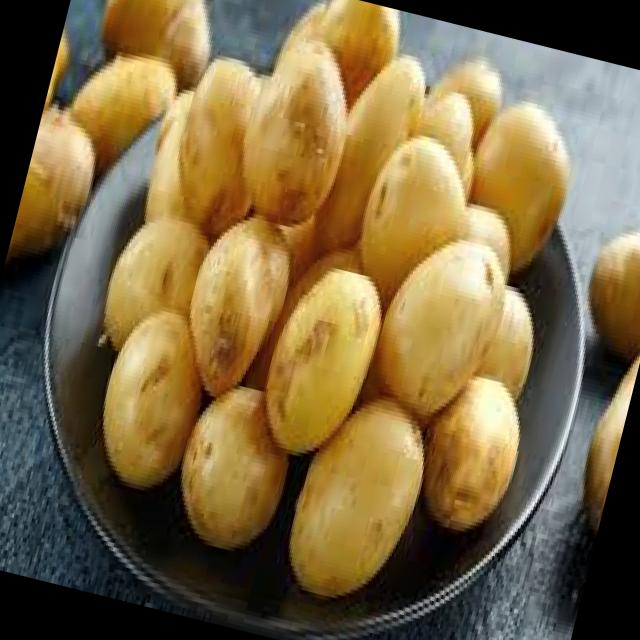Potato: (274, 376, 445, 640), (158, 351, 318, 582), (361, 219, 525, 438), (223, 7, 376, 238), (252, 246, 404, 472), (76, 302, 224, 522), (449, 79, 603, 288), (173, 196, 320, 409), (340, 115, 490, 322), (307, 34, 433, 262), (96, 187, 244, 369), (406, 358, 544, 544), (0, 73, 109, 297), (551, 324, 640, 575), (162, 45, 280, 232), (79, 0, 243, 125), (56, 38, 192, 180), (462, 264, 560, 425), (416, 32, 526, 174), (558, 205, 640, 385)
